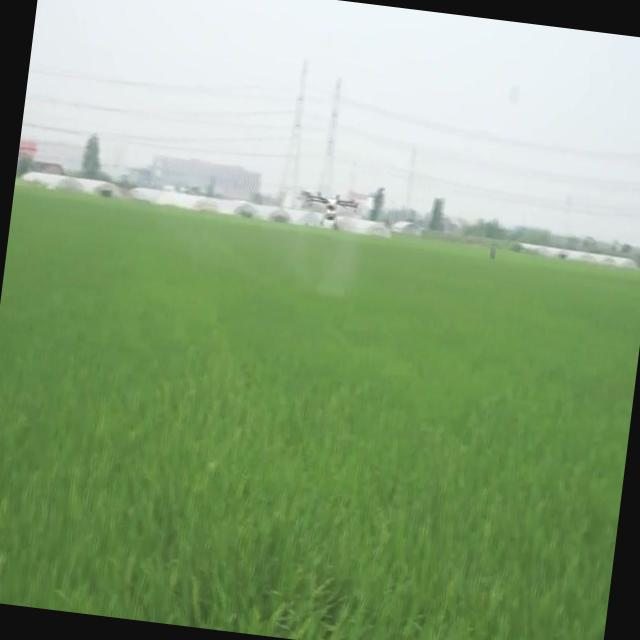drone: (296, 186, 360, 234)
